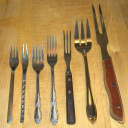Fork: (69, 16, 105, 126), (38, 34, 68, 123), (7, 41, 30, 125)
